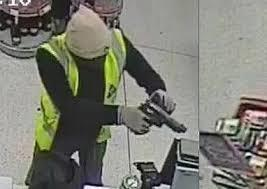weapon: (133, 96, 189, 137)
